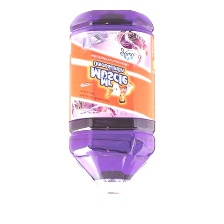cleaning_solution: (65, 7, 157, 211)
